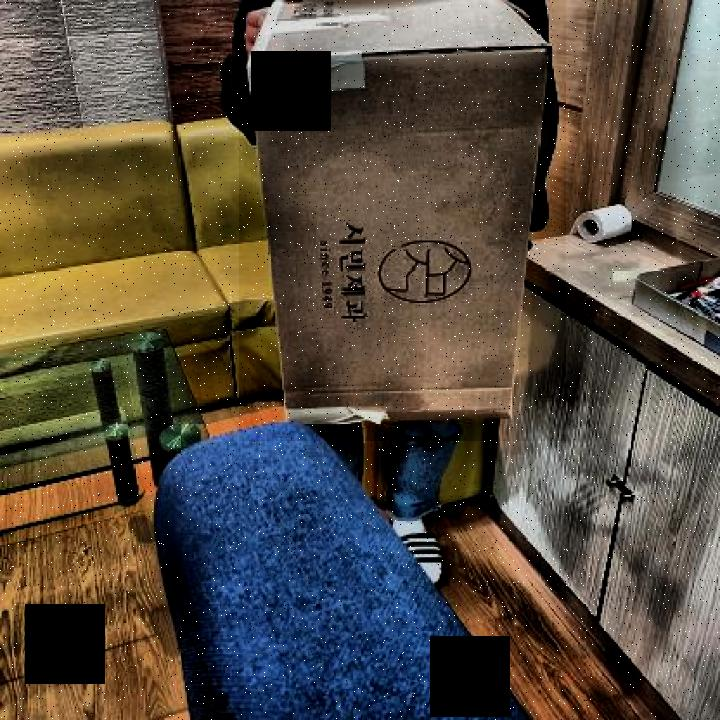box: (239, 0, 566, 441)
